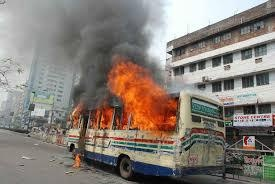fire: (69, 59, 179, 132), (70, 151, 83, 168)
